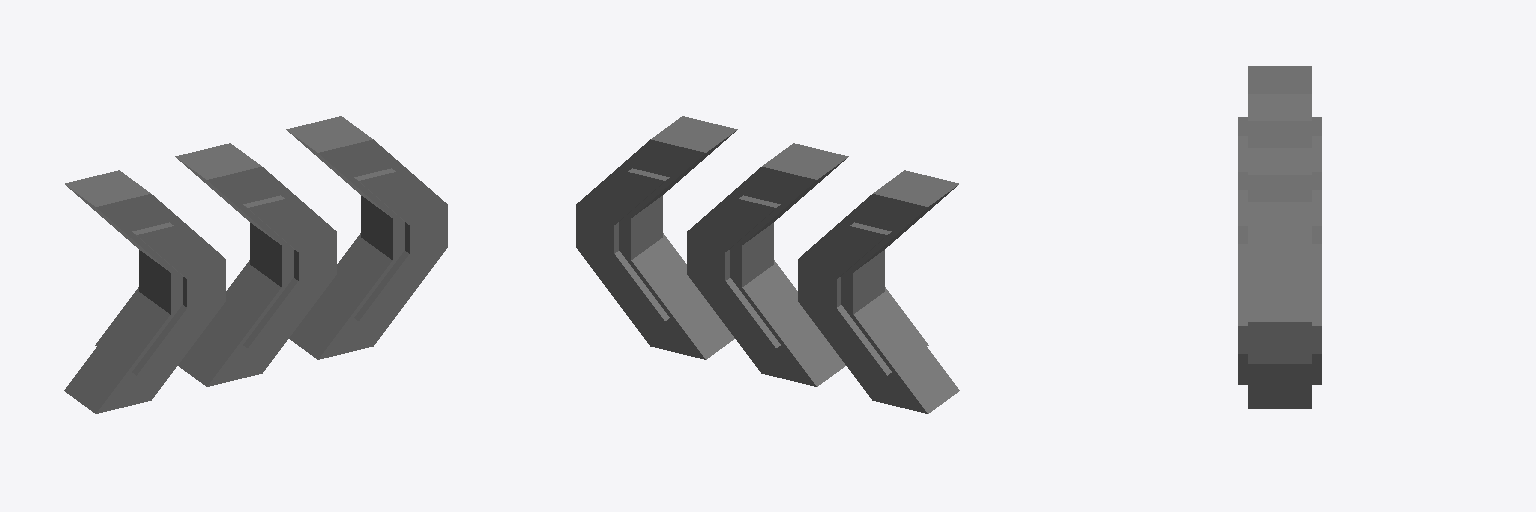
The model's file is BOOST.obj.
3 views of the same model, side by side, from view 1: azimuth 30°, elevation 25°; view 2: azimuth 150°, elevation 25°; view 3: azimuth 270°, elevation 25° (orthographic).
Visible parts, largest first — view 1: SpeedBoost:polySurface1; view 2: SpeedBoost:polySurface1; view 3: SpeedBoost:polySurface1.
Part boxes in pixels (bbox=[...]): SpeedBoost:polySurface1: bbox=[64, 116, 447, 413]; SpeedBoost:polySurface1: bbox=[576, 116, 959, 413]; SpeedBoost:polySurface1: bbox=[1238, 66, 1321, 408].
Size of the model in its own units: 6.35 by 3.56 by 1.3.